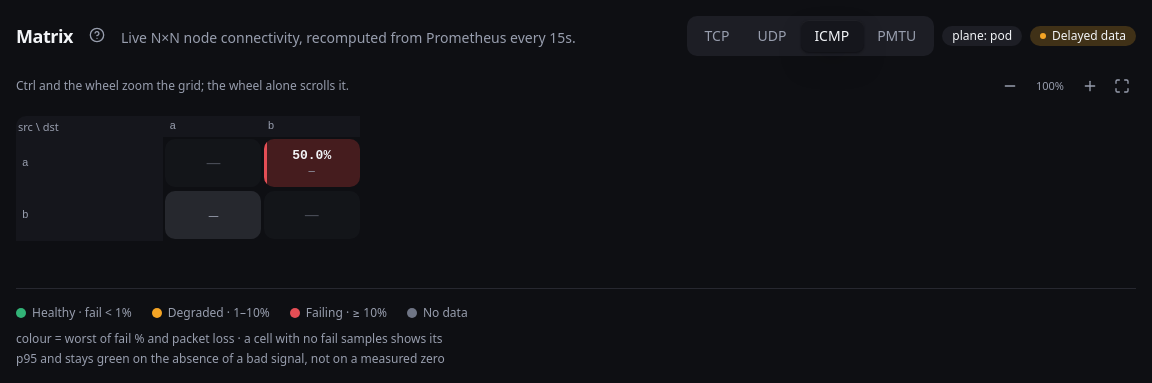
it: MatrixPage — a topology the console cannot trust › renders every silence as plain 'no data' for agents: null (a Go nil slice past the normalizer)
Step 1. Hover over the link named "b → a: no data" → (213, 215), box [165,191,261,239]
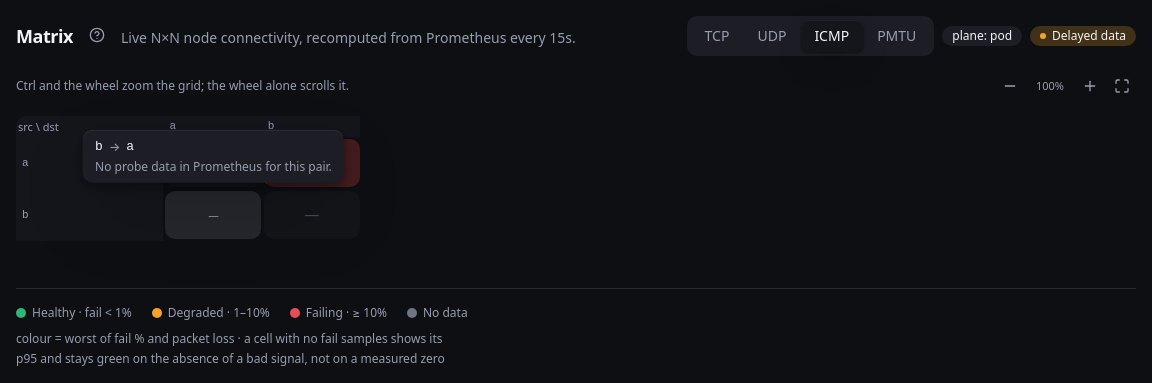
Check: the tooltip does not show "No series", box [83,130,344,183]
Check: the tooltip shows "No probe data in Prometheus for this pair.", box [95,158,332,175]
